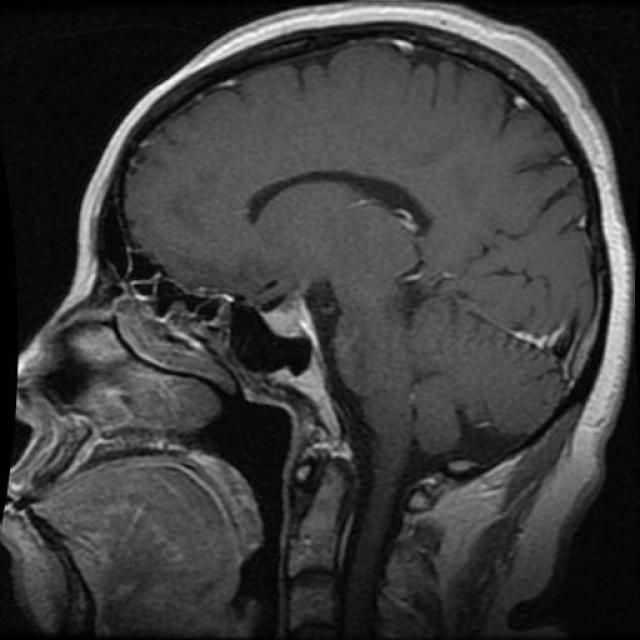pituitary: (260, 292, 324, 350)
